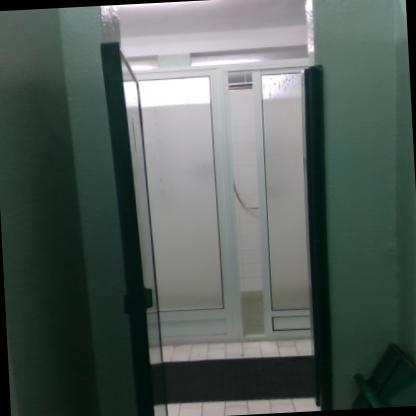closed: (122, 64, 241, 366)
open: (75, 22, 338, 416)
